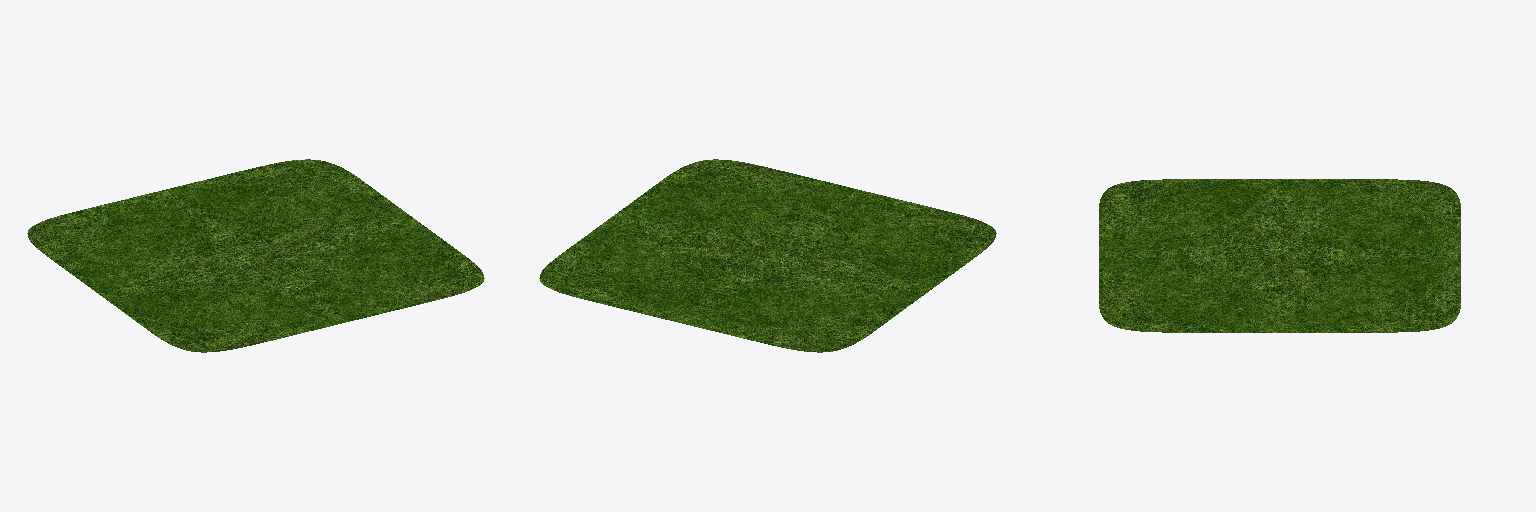
3 renders of one model, left to right at view 1: azimuth 30°, elevation 25°; view 2: azimuth 150°, elevation 25°; view 3: azimuth 270°, elevation 25°, orthographic.
Visible parts, largest first — view 1: White; view 2: White; view 3: White.
Boxes of the visible parts, x1,y1,x2,y2 form: White: [27, 159, 484, 352]; White: [539, 159, 996, 352]; White: [1099, 179, 1460, 332].
Bounding box in the file's own units: 200 × 0.0002 × 200.
1 materials, 1 textured.